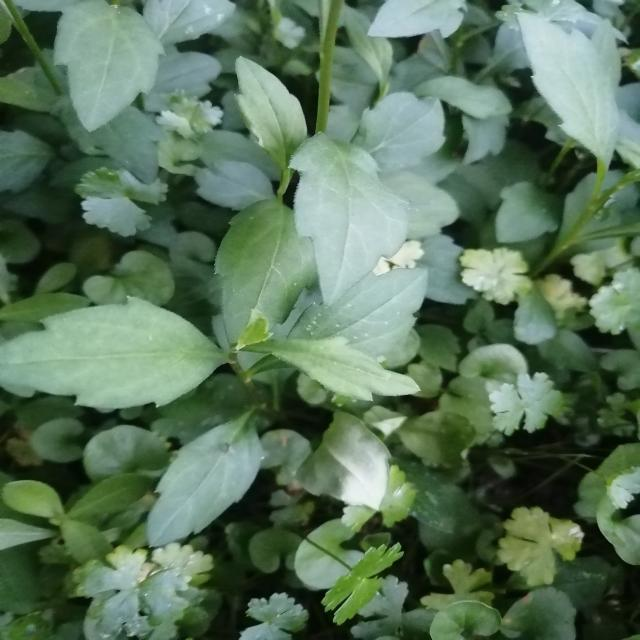Indian aster: (0, 130, 412, 493)
